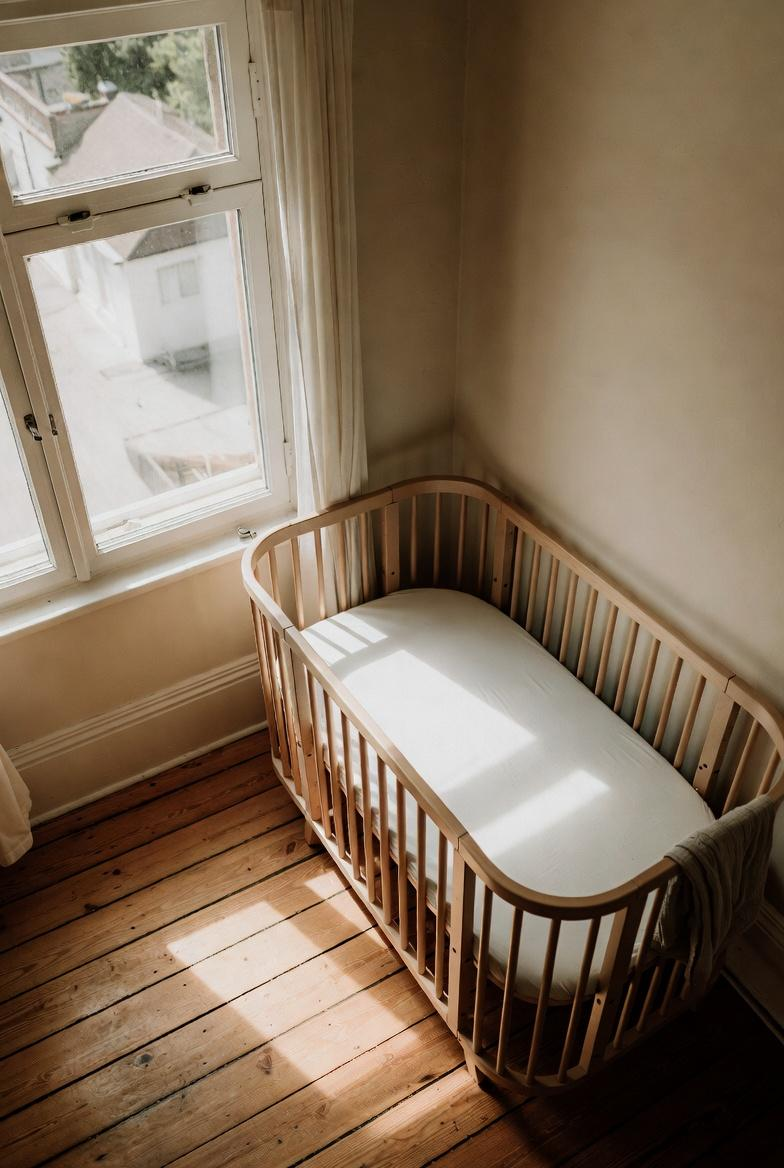crib: (243, 478, 784, 1093)
